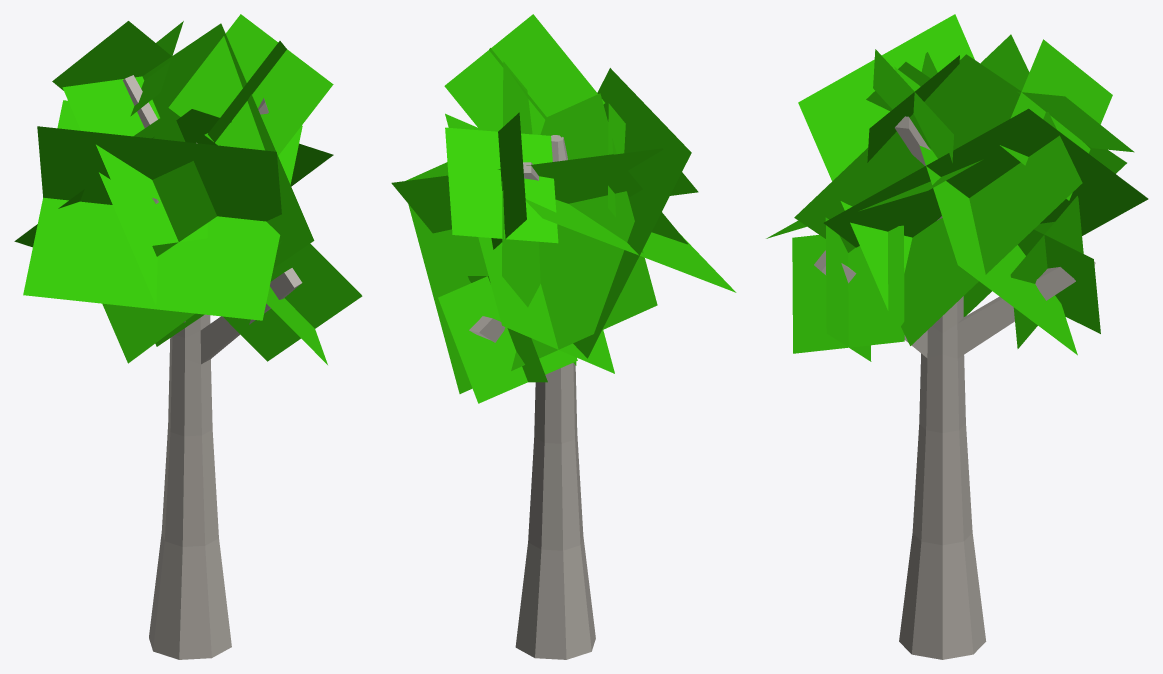
File: Tree.fbx
3 renders of one model, left to right at view 1: azimuth 30°, elevation 25°; view 2: azimuth 150°, elevation 25°; view 3: azimuth 270°, elevation 25°, orthographic. The views are drawn at different scales.
Visible parts, largest first — view 1: Cylinder; view 2: Cylinder; view 3: Cylinder.
Boxes of the visible parts, x1=… form: Cylinder: x1=14, y1=14, x2=362, y2=659; Cylinder: x1=391, y1=14, x2=736, y2=659; Cylinder: x1=766, y1=14, x2=1148, y2=659.
Bounding box in the file's own units: 640 × 1140 × 639.
